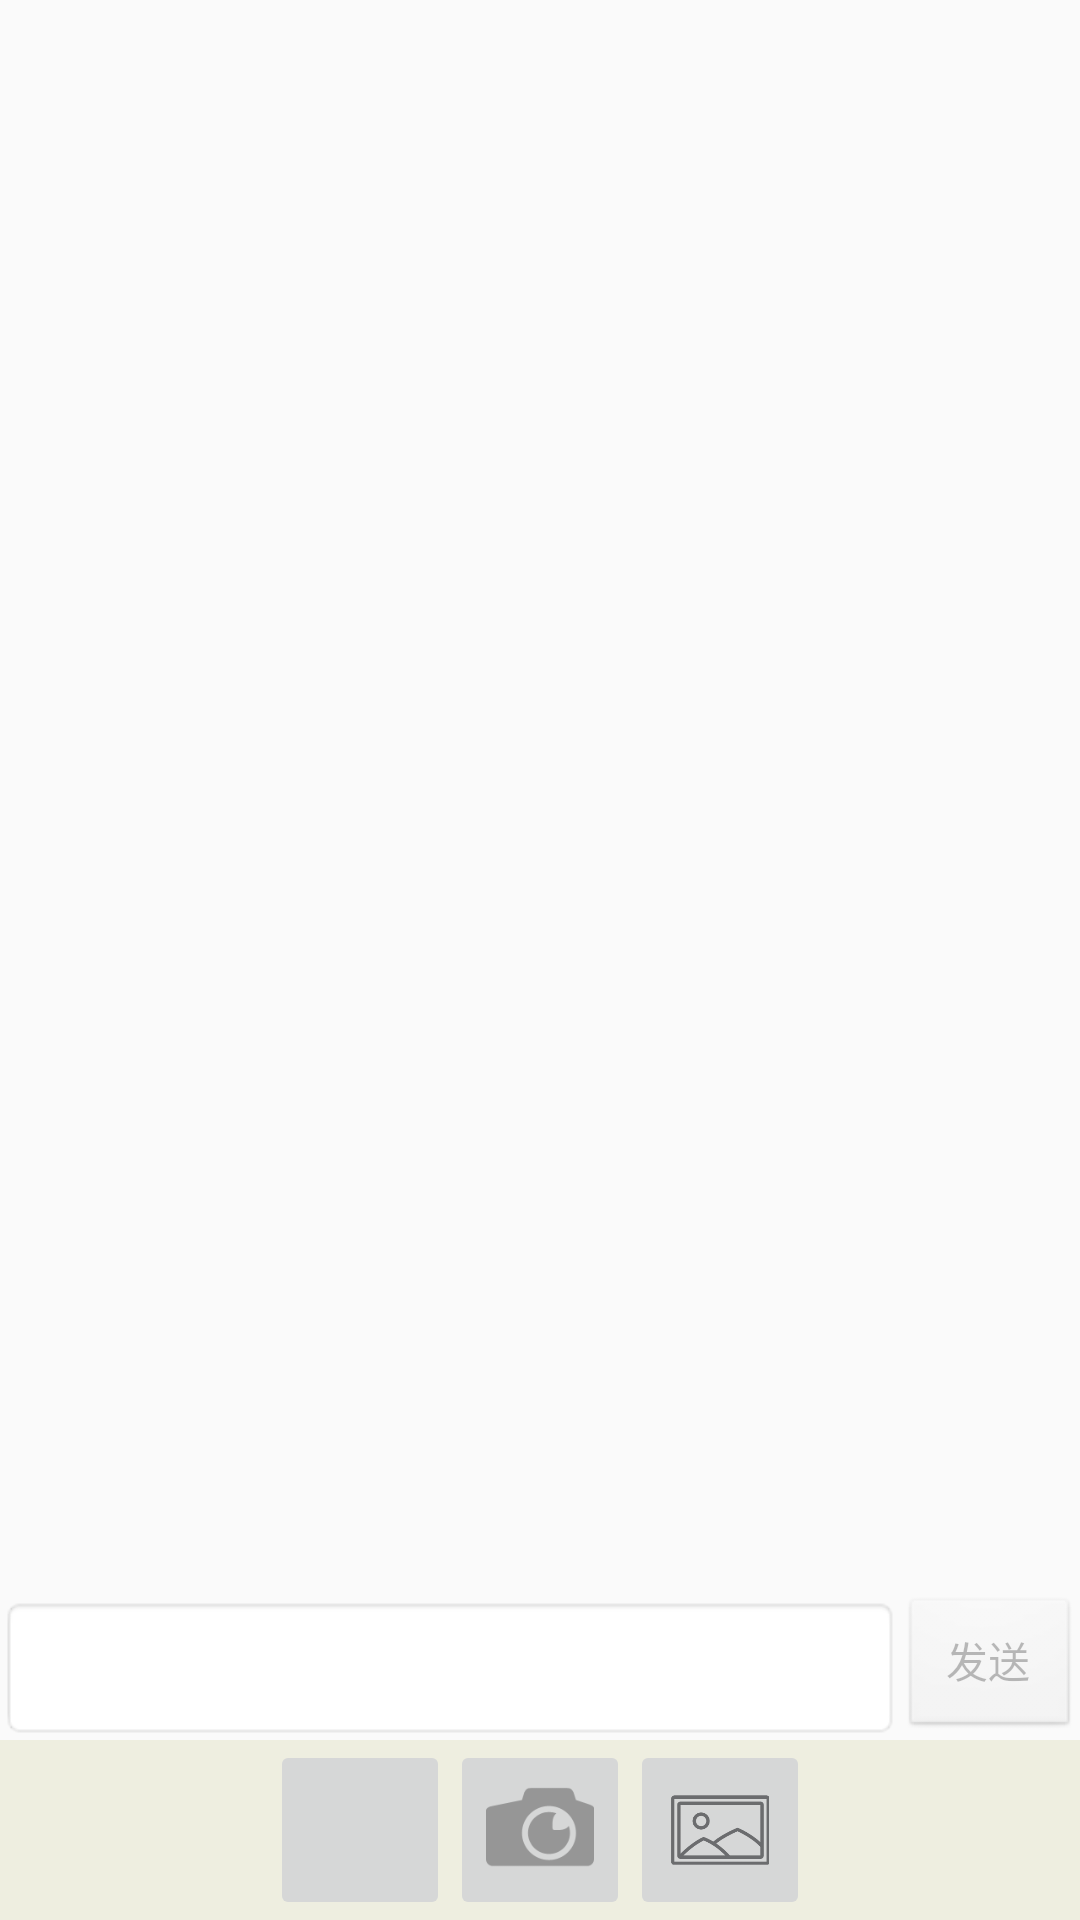

Named icons in this screenshot (1080×1920) and their centers, (x,y):
图片: (720,1830)
相机: (540,1827)
